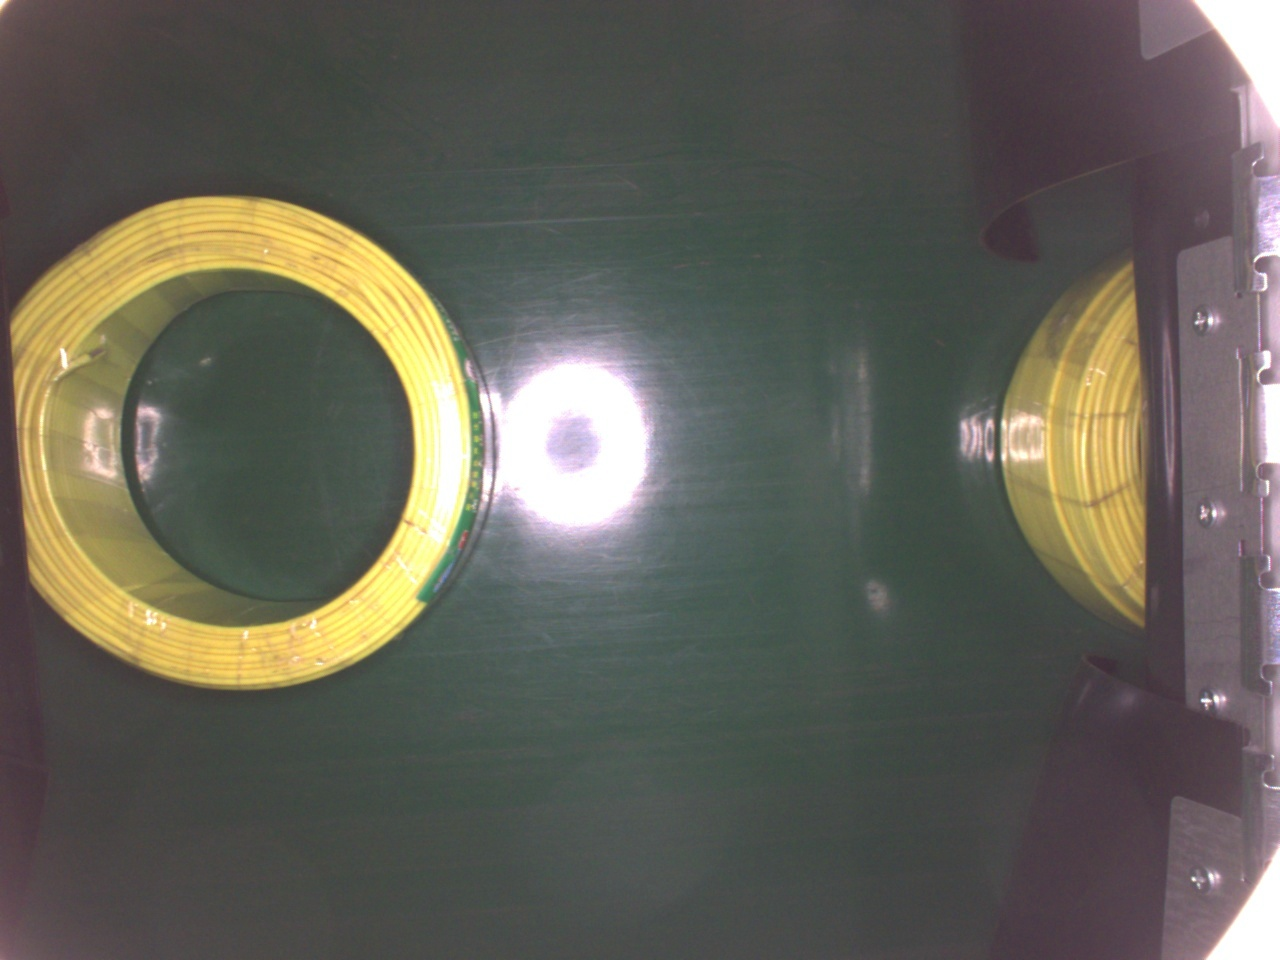yellow: (11, 193, 499, 689), (995, 248, 1151, 640)
